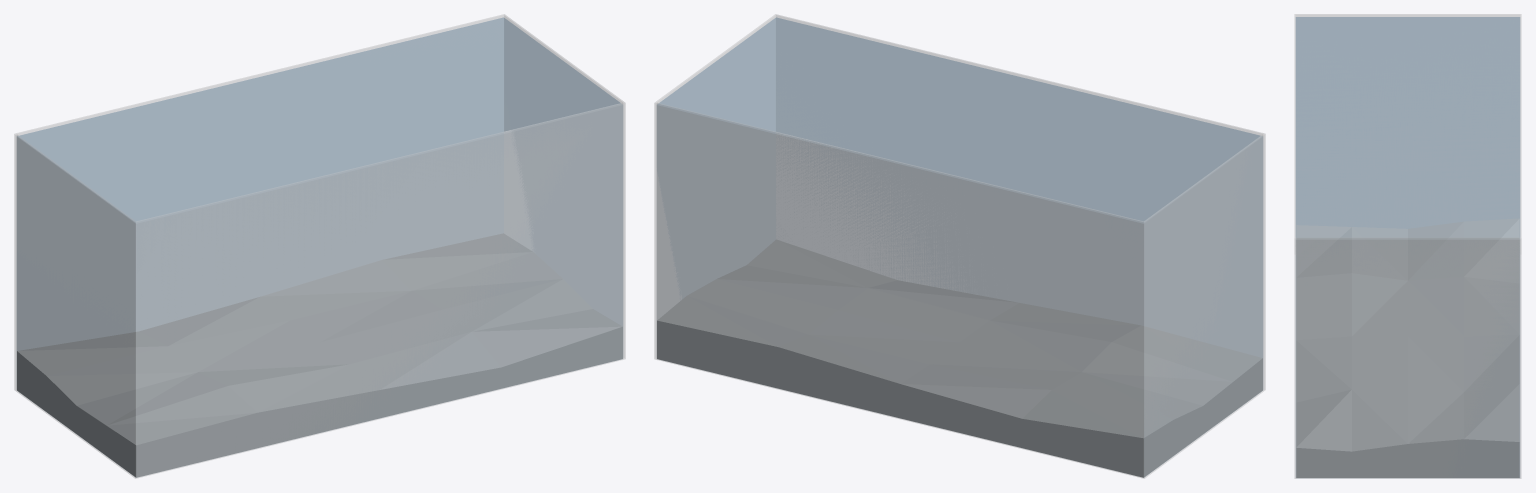
Rendered from aquarium-glass.obj.
The picture shows the model from 3 angles, left to right: view 1: azimuth 30°, elevation 25°; view 2: azimuth 150°, elevation 25°; view 3: azimuth 270°, elevation 25°; orthographic projection. The views are drawn at different scales.
Visible parts, largest first — view 1: aquarium-glass_Cube, aquarium-glass.002_Cube.009, aquarium-glass.001_Cube.003; view 2: aquarium-glass_Cube, aquarium-glass.002_Cube.009, aquarium-glass.001_Cube.003; view 3: aquarium-glass.002_Cube.009, aquarium-glass_Cube, aquarium-glass.001_Cube.003.
Boxes of the visible parts, x1,y1,x2,y2 form: aquarium-glass_Cube: (14,14,625,478); aquarium-glass.002_Cube.009: (17,17,622,477); aquarium-glass.001_Cube.003: (17,233,622,477); aquarium-glass_Cube: (654,14,1265,478); aquarium-glass.002_Cube.009: (657,17,1262,477); aquarium-glass.001_Cube.003: (657,239,1262,477); aquarium-glass.002_Cube.009: (1295,17,1520,477); aquarium-glass_Cube: (1294,14,1521,478); aquarium-glass.001_Cube.003: (1296,218,1519,477).
Bounding box in the file's own units: 290 × 145 × 124.
